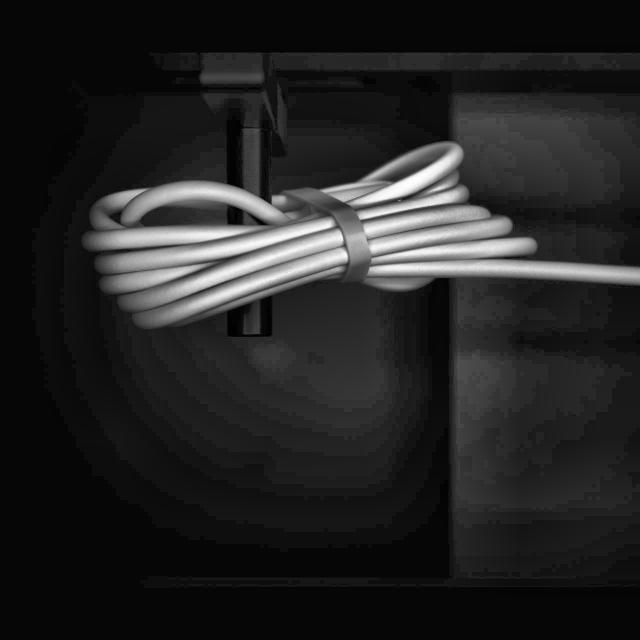Cable: (80, 138, 640, 336)
